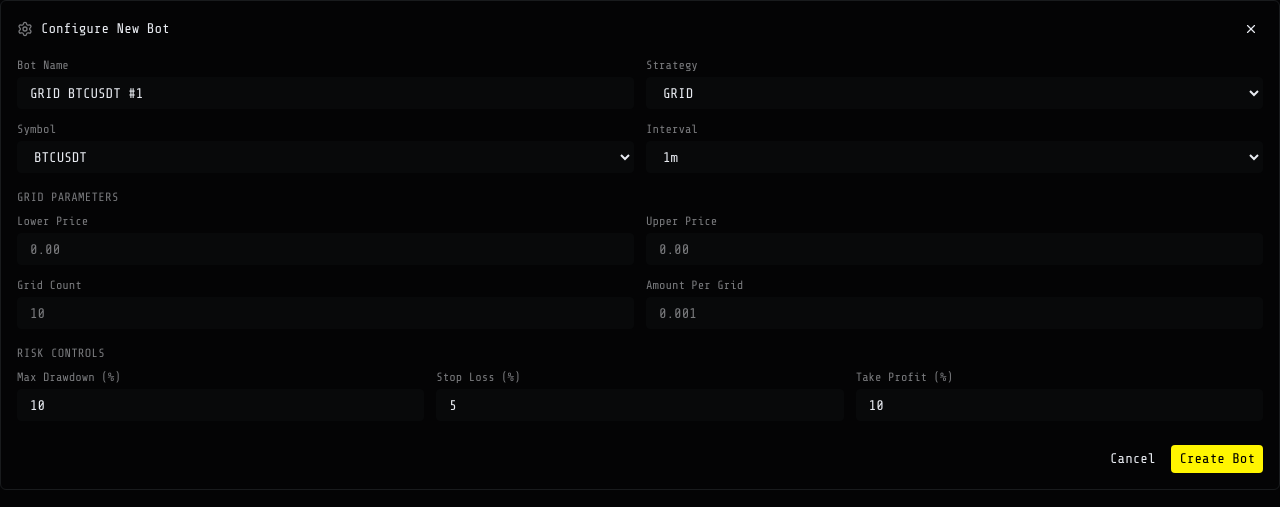
it: BotConfigForm › switches to RSI parameters when RSI strategy is selected
The image size is (1280, 507).
Select "RSI" in the dropdown labelled "Strategy" at (954,93), box x1=646 y1=77 x2=1263 y2=109
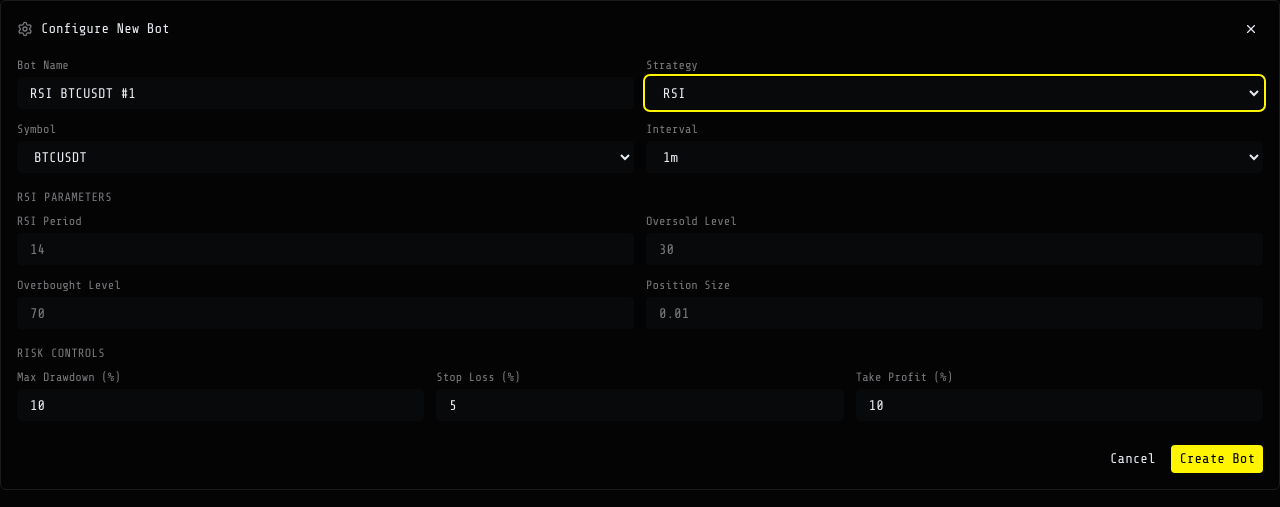
Now the number field labelled "RSI Period" is shown, box x1=17 y1=233 x2=634 y2=265
Now the number field labelled "Oversold Level" is shown, box x1=646 y1=233 x2=1263 y2=265
Now the number field labelled "Overbought Level" is shown, box x1=17 y1=297 x2=634 y2=329
